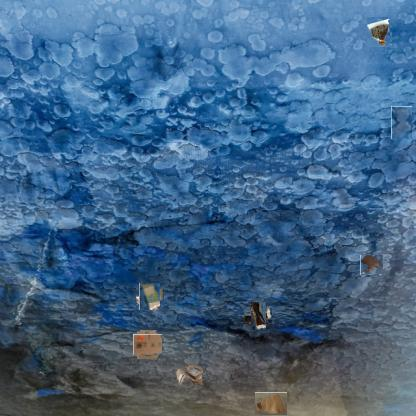dirty: (174, 362, 206, 388), (255, 392, 287, 415), (368, 17, 392, 47), (135, 332, 160, 357), (138, 284, 162, 309), (247, 305, 270, 327)
liquid: (391, 106, 412, 139), (361, 255, 382, 276)
